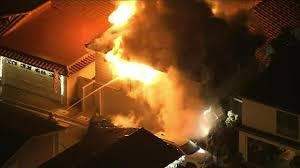fire: (102, 39, 163, 86)
